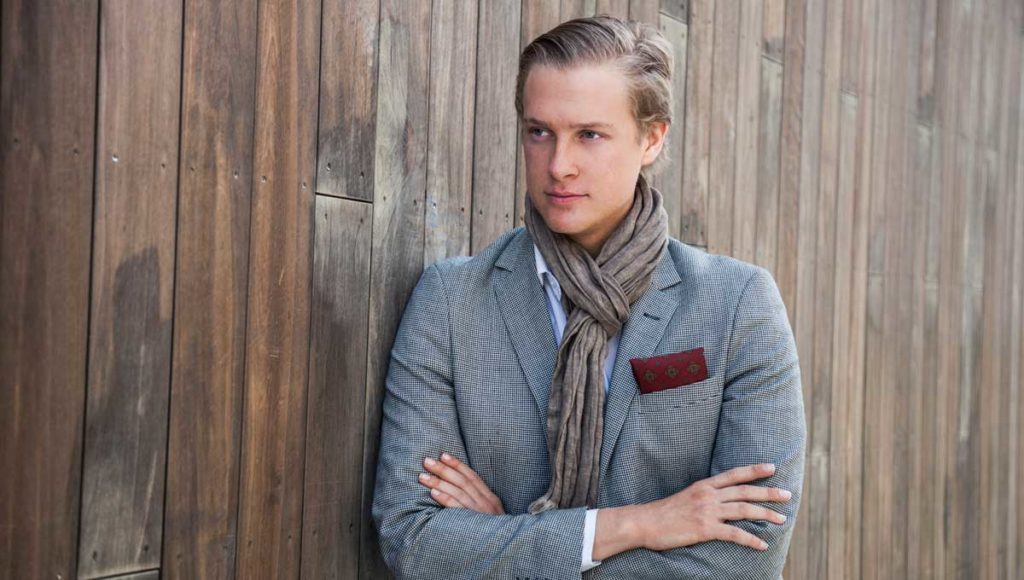human: (367, 6, 822, 580)
